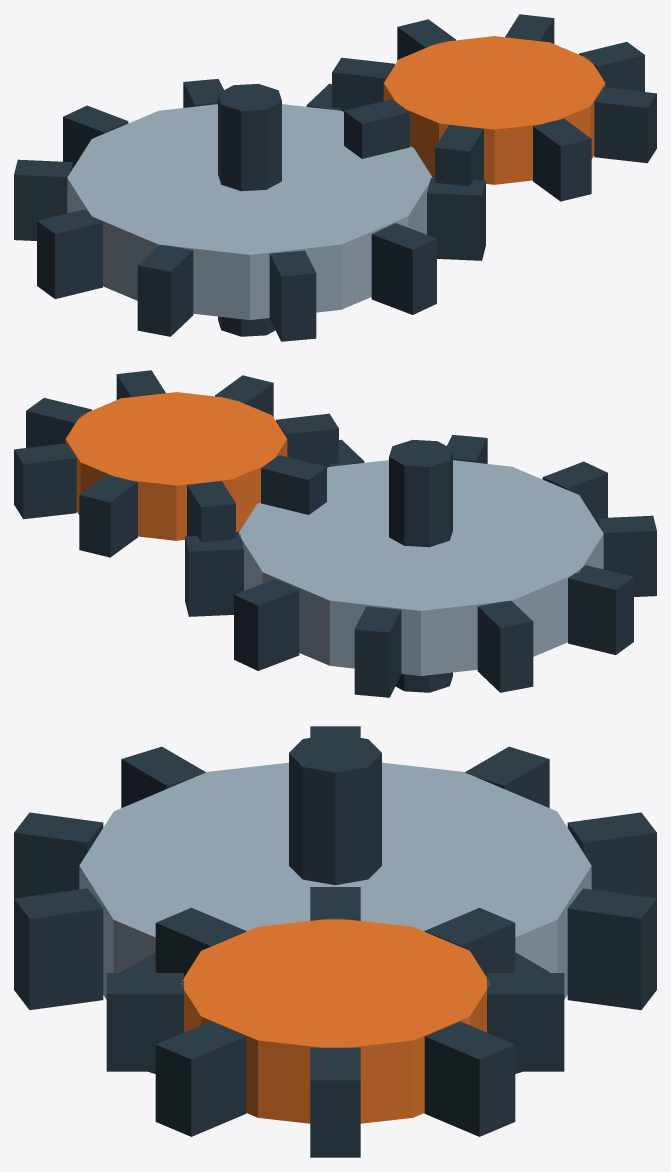
Rendered from gear_machine.glb.
3 renders of one model, top to bottom at view 1: azimuth 30°, elevation 25°; view 2: azimuth 150°, elevation 25°; view 3: azimuth 270°, elevation 25°, orthographic. The views are drawn at different scales.
Parts seen in each view (by area): view 1: gear_machine; view 2: gear_machine; view 3: gear_machine.
Part boxes in pixels (box(x1,y1,x2,y2)): gear_machine: box(14, 14, 656, 341); gear_machine: box(14, 370, 656, 697); gear_machine: box(14, 726, 656, 1157).
Bounding box in the file's own units: 2.46 × 0.9 × 1.66.
